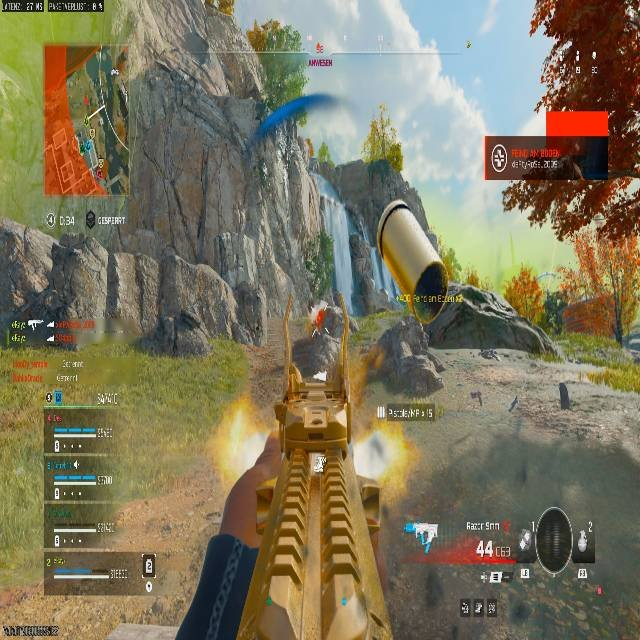head: (414, 263, 449, 315)
